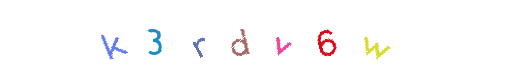3: (109, 0, 189, 80)
6: (285, 0, 365, 80)
D: (227, 0, 307, 80)
K: (90, 0, 170, 80)
R: (212, 0, 292, 80)
V: (253, 0, 333, 80)
W: (334, 0, 414, 80)
